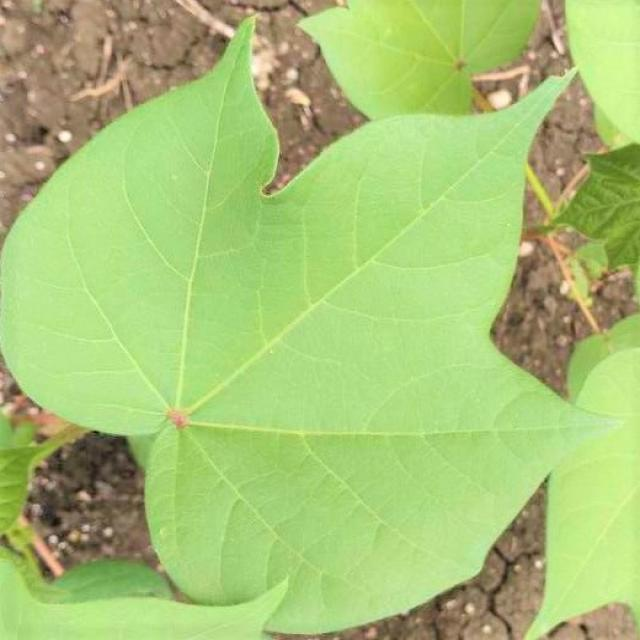Healthy Leaf: (5, 2, 640, 630)
